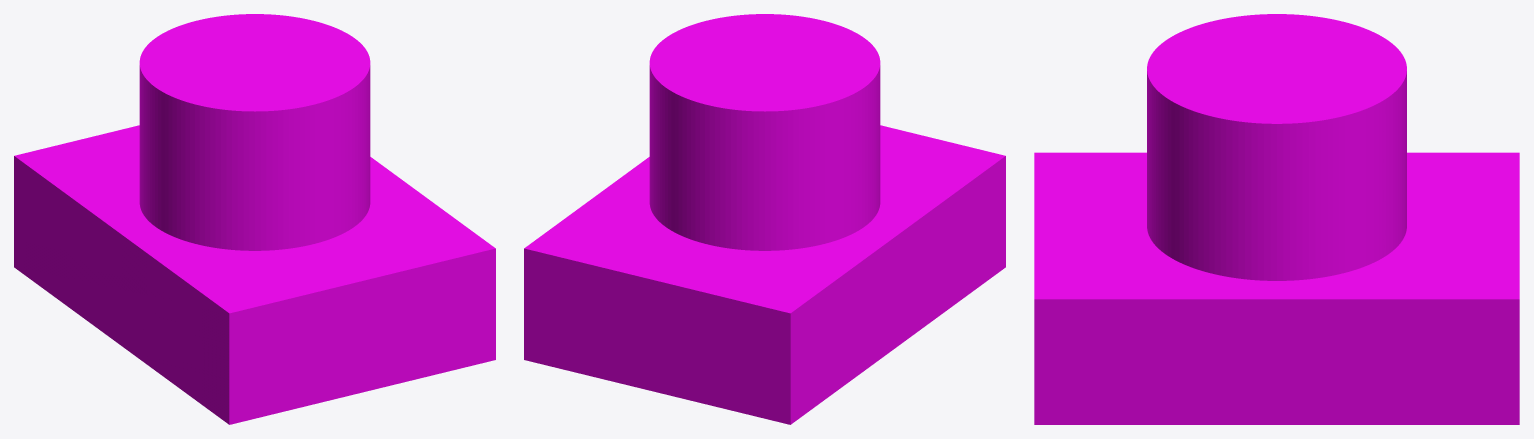
The model's file is scanbot_s09_camera_link.dae.
3 views of the same model, side by side, from view 1: azimuth 30°, elevation 25°; view 2: azimuth 150°, elevation 25°; view 3: azimuth 270°, elevation 25° (orthographic). The views are drawn at different scales.
Parts seen in each view (by area): view 1: node0; view 2: node0; view 3: node0.
Part boxes in pixels (<box>): node0: <box>14,14,495,424</box>; node0: <box>524,14,1005,424</box>; node0: <box>1034,14,1519,424</box>.
Size of the model in its own units: 0.05 by 0.07 by 0.045.
